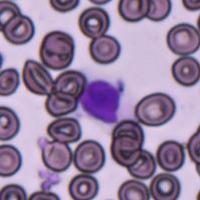L: (76, 76, 136, 125)
